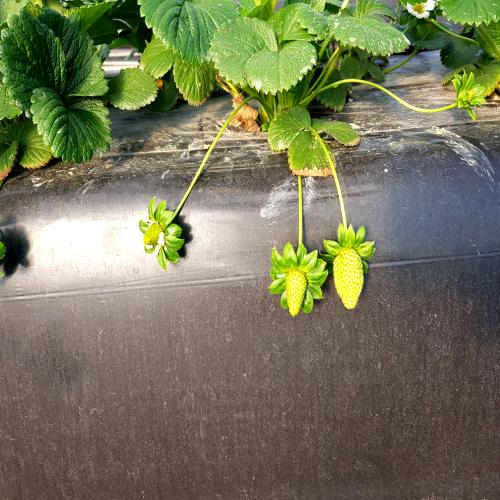unripe: (328, 245, 368, 317)
